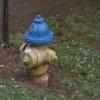Hydrant: (13, 11, 58, 87)
